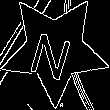N_N: (29, 20, 80, 79)
